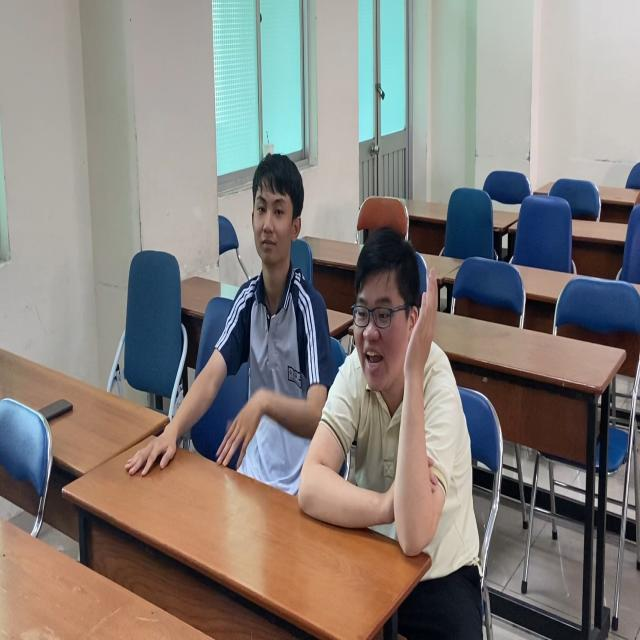raise_hand: (311, 225, 484, 563)
